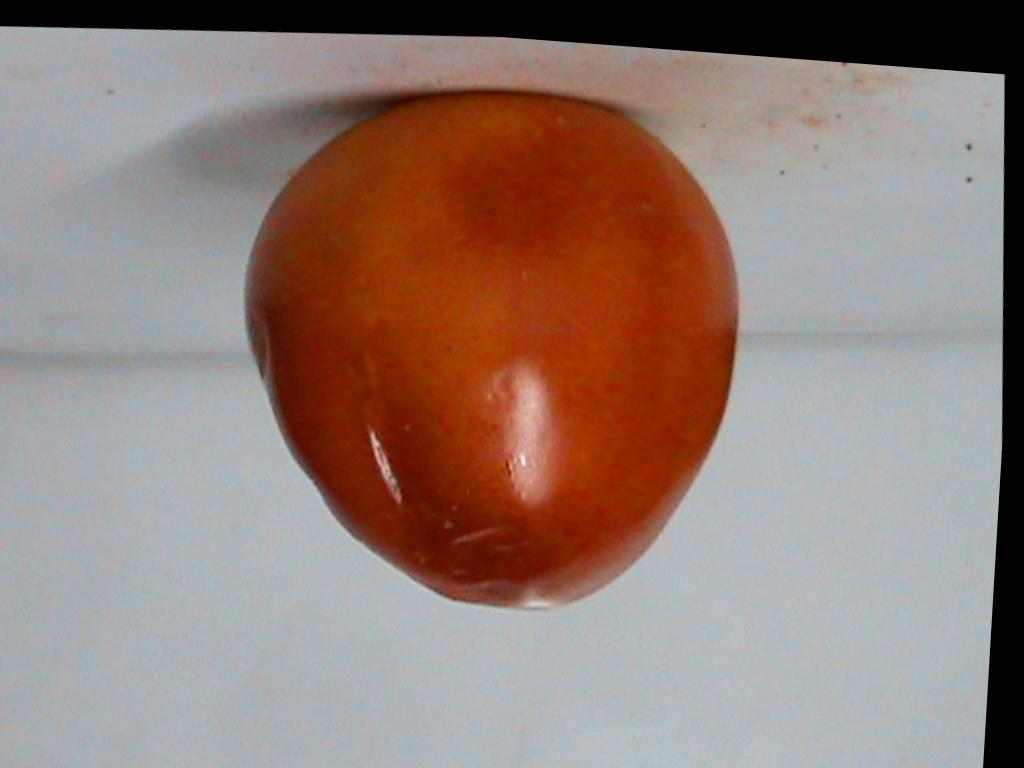bruise_discoloration: (373, 389, 557, 604), (445, 131, 591, 254)
surface_damage: (352, 372, 402, 505)
tomato: (247, 98, 734, 608)
